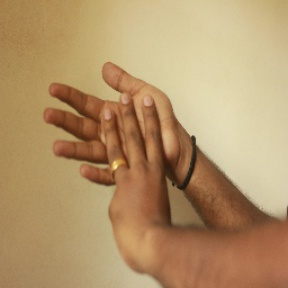M: (44, 58, 190, 225)
